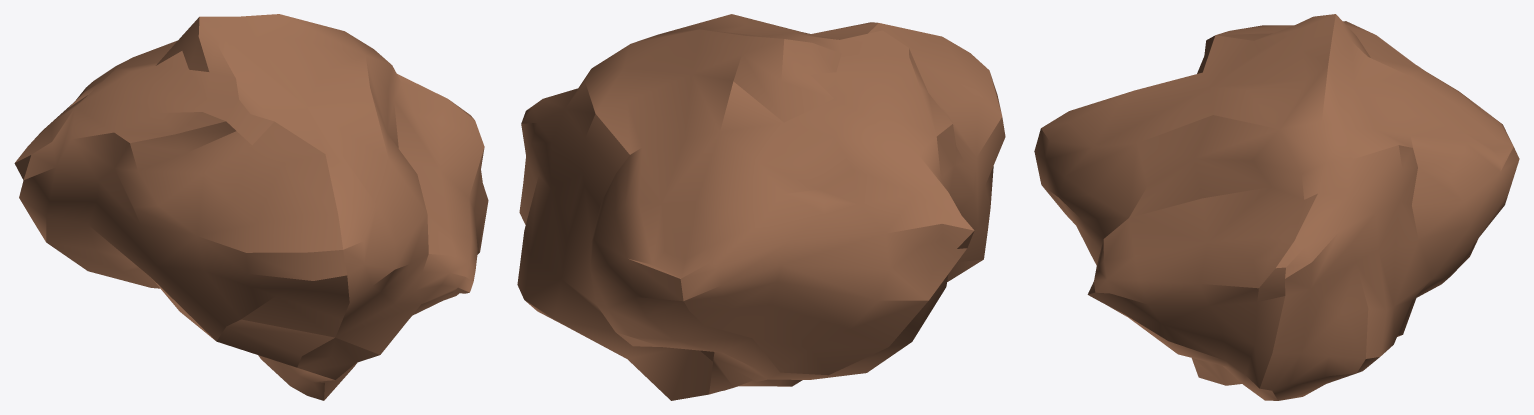
The model's file is rock_big_3.fbx.
3 views of the same model, side by side, from view 1: azimuth 30°, elevation 25°; view 2: azimuth 150°, elevation 25°; view 3: azimuth 270°, elevation 25° (orthographic). The views are drawn at different scales.
Visible parts, largest first — view 1: Retopo_Rock generator addon.006; view 2: Retopo_Rock generator addon.006; view 3: Retopo_Rock generator addon.006.
Boxes of the visible parts, x1,y1,x2,y2 form: Retopo_Rock generator addon.006: [14, 14, 488, 400]; Retopo_Rock generator addon.006: [517, 14, 1005, 400]; Retopo_Rock generator addon.006: [1034, 14, 1519, 400].
Size of the model in its own units: 137 by 106 by 137.
